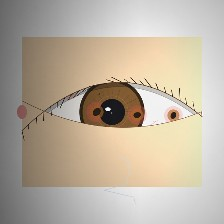foreign_body_visible: (155, 101, 191, 130)
